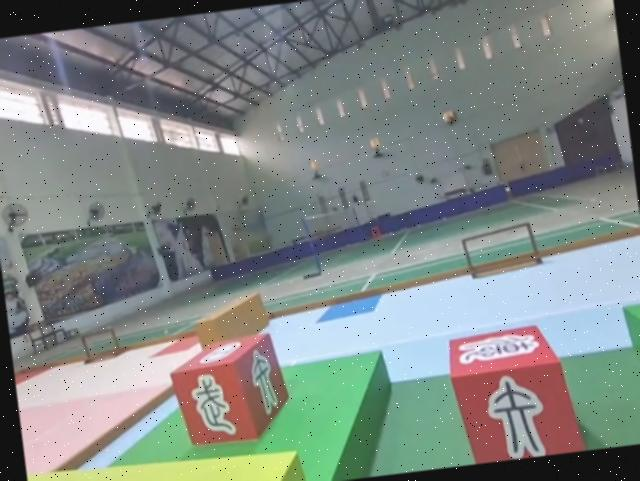R2 Fake: (441, 319, 583, 466), (159, 333, 297, 457)
